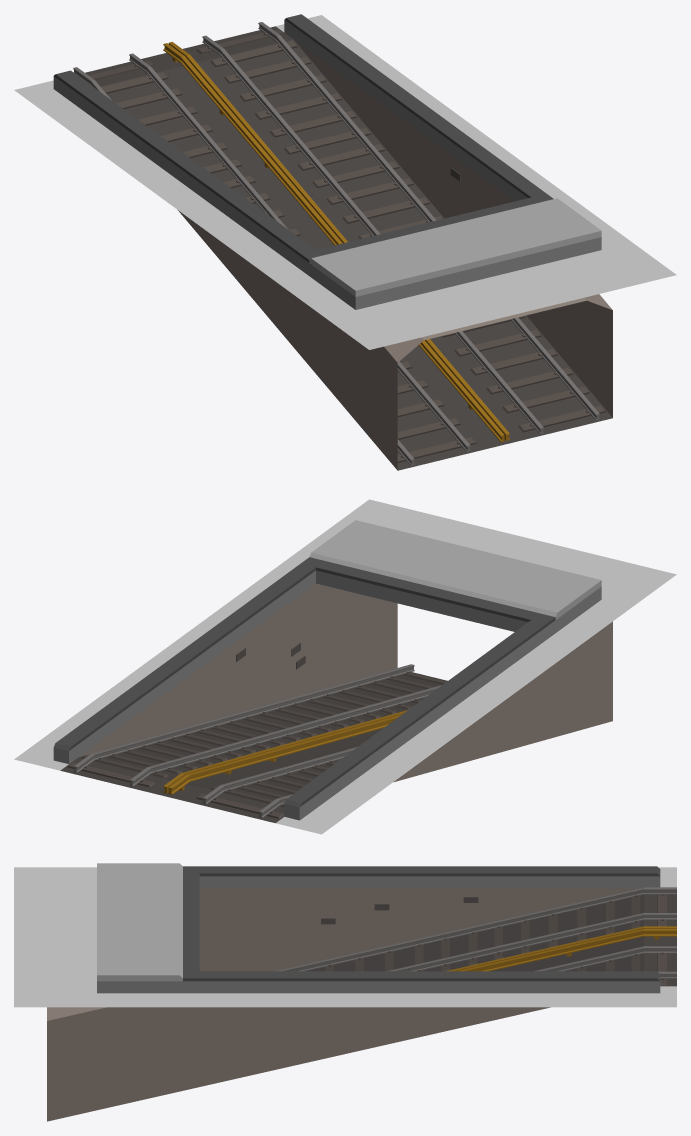
File: SM_Train_Track_Underground_Double_Tunnel_Merger.fbx
3 renders of one model, top to bottom at view 1: azimuth 30°, elevation 25°; view 2: azimuth 150°, elevation 25°; view 3: azimuth 270°, elevation 25°, orthographic. The views are drawn at different scales.
Visible parts, largest first — view 1: SM_Train_Track_Underground_Double_Tunnel_Merger; view 2: SM_Train_Track_Underground_Double_Tunnel_Merger; view 3: SM_Train_Track_Underground_Double_Tunnel_Merger.
Boxes of the visible parts, x1,y1,x2,y2 form: SM_Train_Track_Underground_Double_Tunnel_Merger: [14, 14, 676, 470]; SM_Train_Track_Underground_Double_Tunnel_Merger: [14, 499, 676, 834]; SM_Train_Track_Underground_Double_Tunnel_Merger: [14, 863, 676, 1121].
Size of the model in its own units: 1000 by 510 by 2000.
